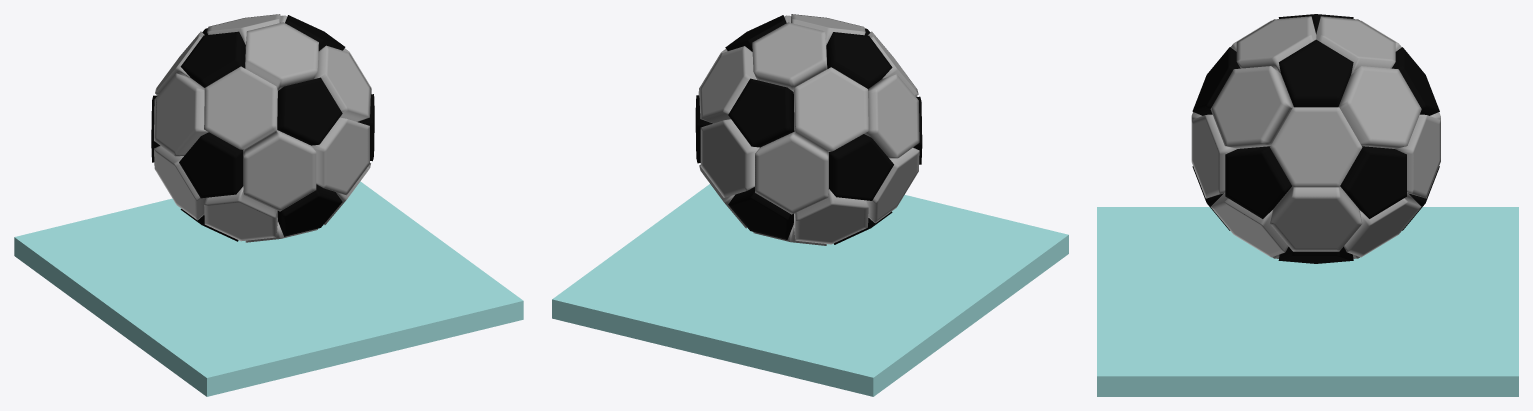
File: pelota.DAE
3 renders of one model, left to right at view 1: azimuth 30°, elevation 25°; view 2: azimuth 150°, elevation 25°; view 3: azimuth 270°, elevation 25°, orthographic. The views are drawn at different scales.
Parts seen in each view (by area): view 1: Box001, Solid_001; view 2: Box001, Solid_001; view 3: Box001, Solid_001.
Boxes of the visible parts, x1=… form: Box001: x1=14, y1=181, x2=523, y2=396; Solid_001: x1=151, y1=14, x2=374, y2=242; Box001: x1=552, y1=184, x2=1068, y2=396; Solid_001: x1=695, y1=14, x2=922, y2=245; Box001: x1=1097, y1=207, x2=1518, y2=396; Solid_001: x1=1191, y1=14, x2=1440, y2=263.
Bounding box in the file's own units: 127 × 134 × 100.
